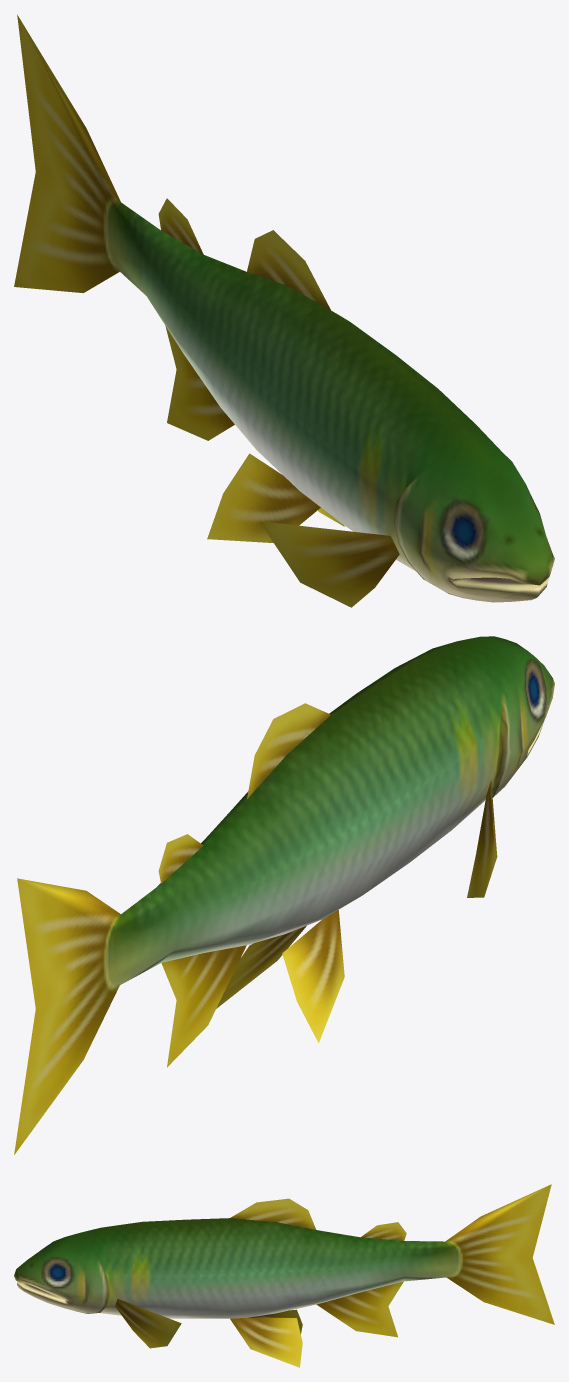
Rendered from FishAyu.glb.
3 views of the same model, one above another, from view 1: azimuth 30°, elevation 25°; view 2: azimuth 150°, elevation 25°; view 3: azimuth 270°, elevation 25° (orthographic). The views are drawn at different scales.
Parts seen in each view (by area): view 1: FishAyu__mAyu; view 2: FishAyu__mAyu; view 3: FishAyu__mAyu.
Part boxes in pixels (bbox=[...]): FishAyu__mAyu: bbox=[14, 14, 554, 607]; FishAyu__mAyu: bbox=[14, 636, 554, 1154]; FishAyu__mAyu: bbox=[14, 1184, 554, 1367].
Size of the model in its own units: 1.92 by 2.56 by 7.39.
Materials: 1 (1 with a texture image).
